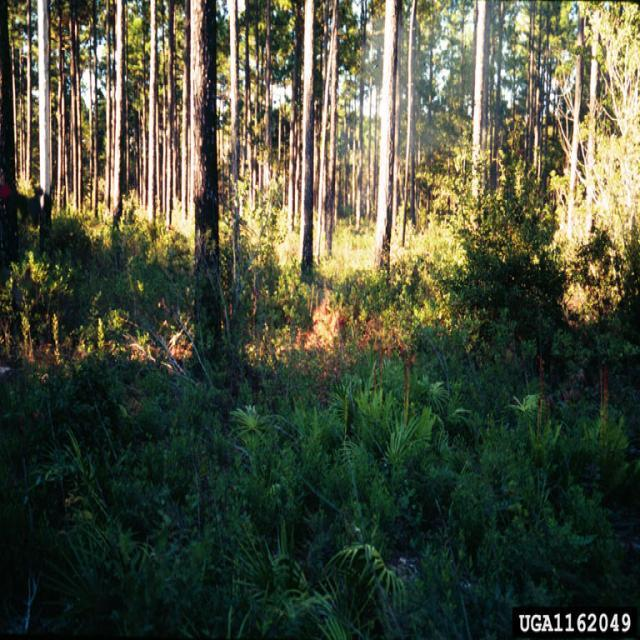Fire: (296, 286, 340, 356)
